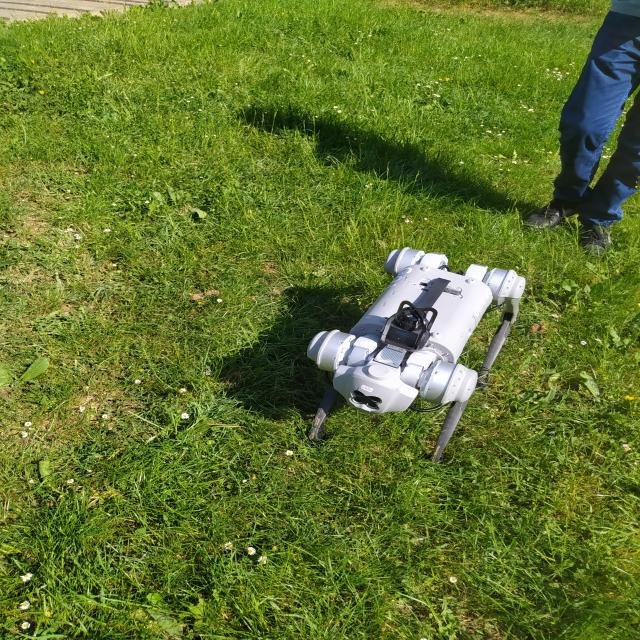unitree-go1-robot: (312, 247, 527, 470)
